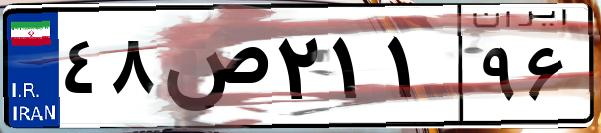1: (385, 28, 445, 110), (330, 28, 385, 110)
2: (270, 28, 330, 110)
4: (57, 26, 110, 100)
6: (525, 38, 570, 115)
8: (110, 28, 158, 98)
9: (475, 38, 525, 113)
ص: (158, 20, 270, 120)
